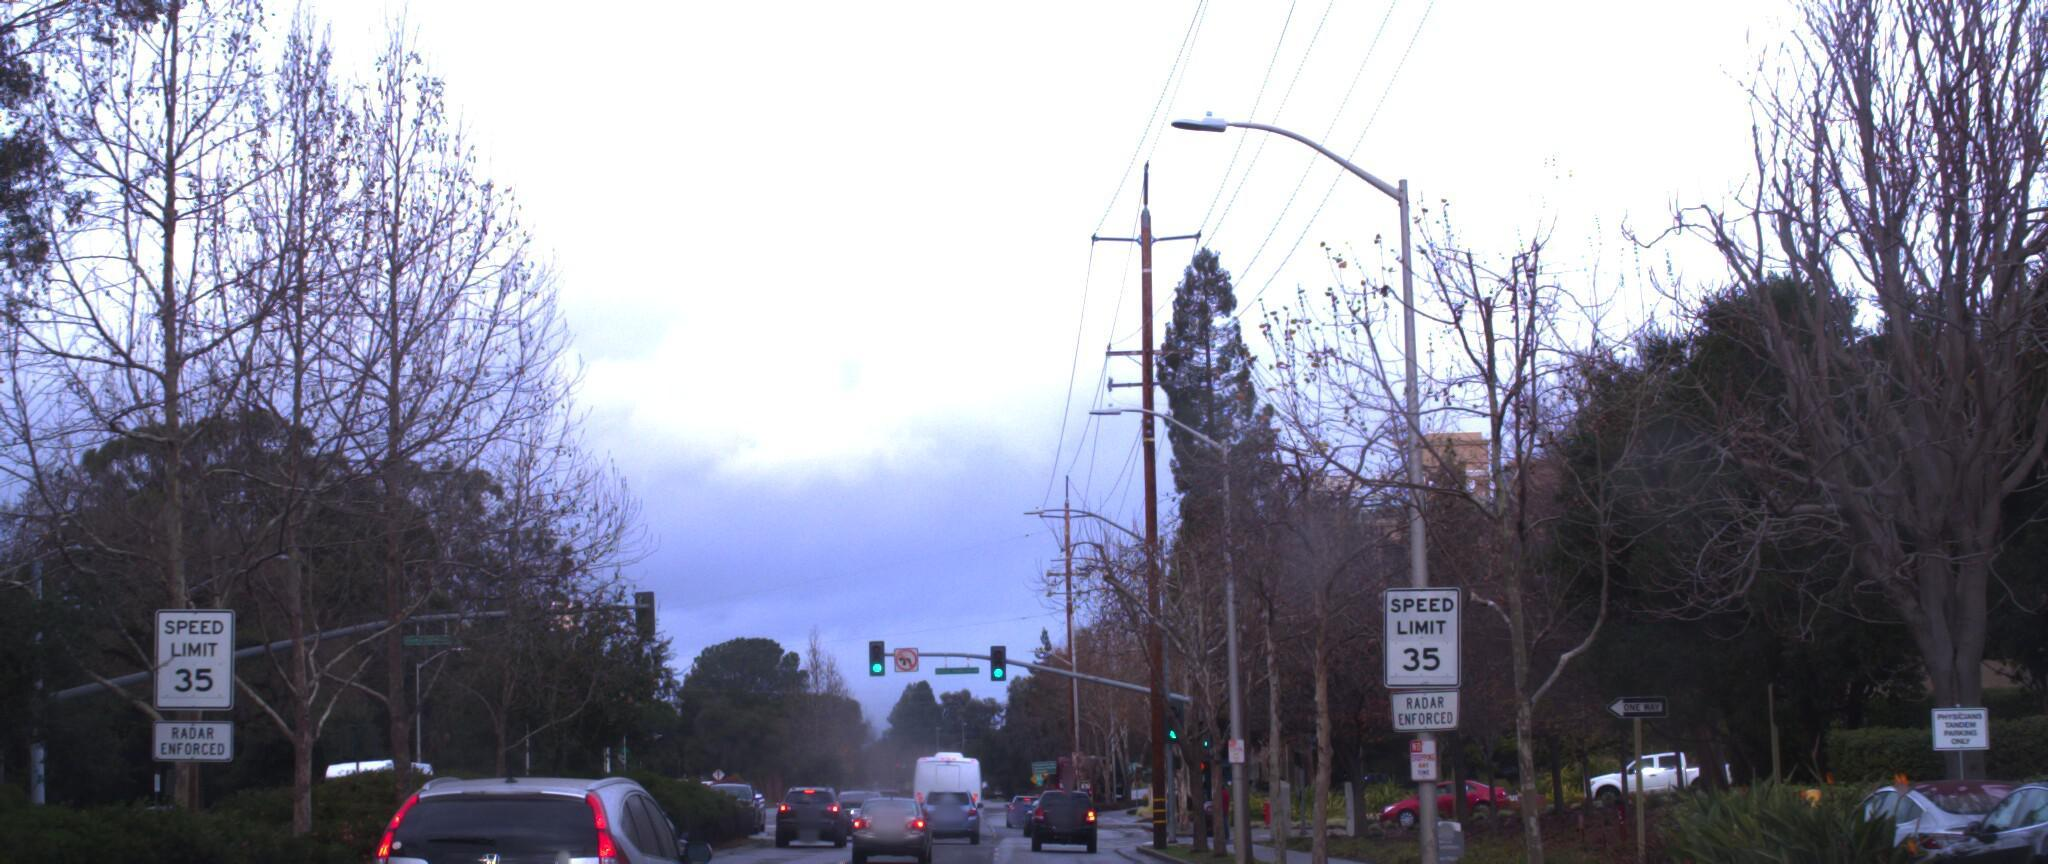car: (357, 747, 728, 864), (1785, 749, 2048, 864), (1891, 752, 2048, 864), (837, 773, 927, 850), (2000, 723, 2048, 864), (1025, 767, 1095, 827)
